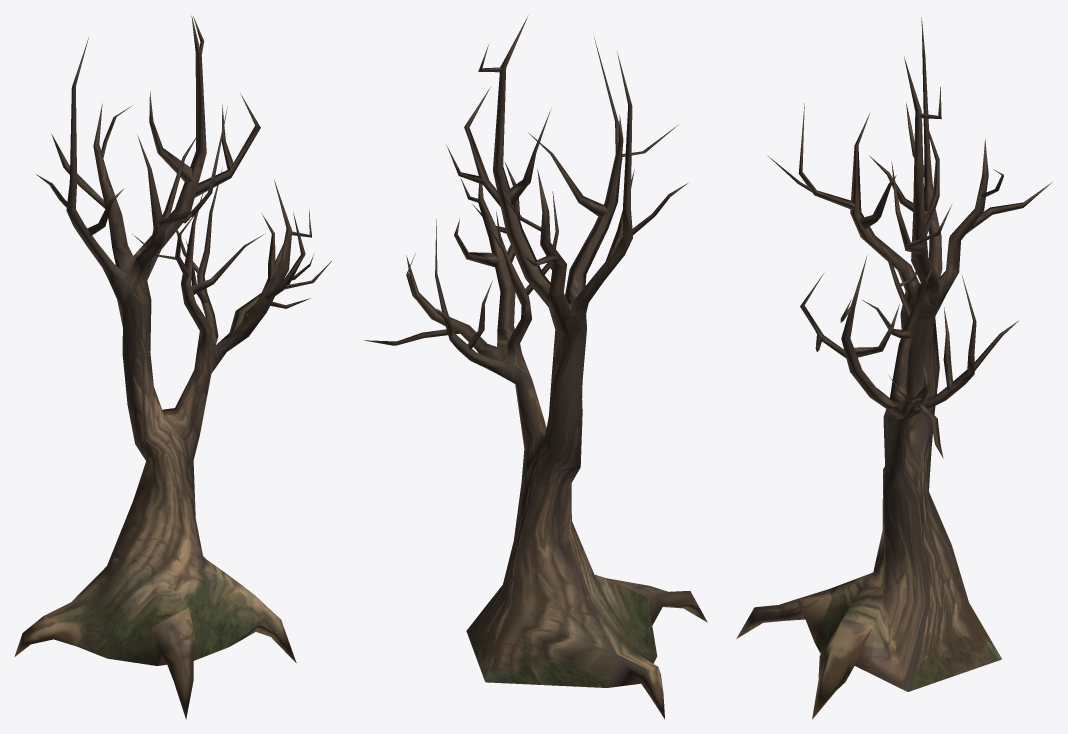
Rendered from plants_tall_tree_trunks208.fbx.
The picture shows the model from 3 angles, left to right: view 1: azimuth 30°, elevation 25°; view 2: azimuth 150°, elevation 25°; view 3: azimuth 270°, elevation 25°; orthographic projection. The views are drawn at different scales.
Parts seen in each view (by area): view 1: Material_#238683193/fancy_tree; view 2: Material_#238683193/fancy_tree; view 3: Material_#238683193/fancy_tree.
Boxes of the visible parts, x1=… form: Material_#238683193/fancy_tree: x1=14, y1=16, x2=331, y2=719; Material_#238683193/fancy_tree: x1=364, y1=15, x2=707, y2=718; Material_#238683193/fancy_tree: x1=736, y1=17, x2=1052, y2=719.
Size of the model in its own units: 4.59 by 9.36 by 4.24.
